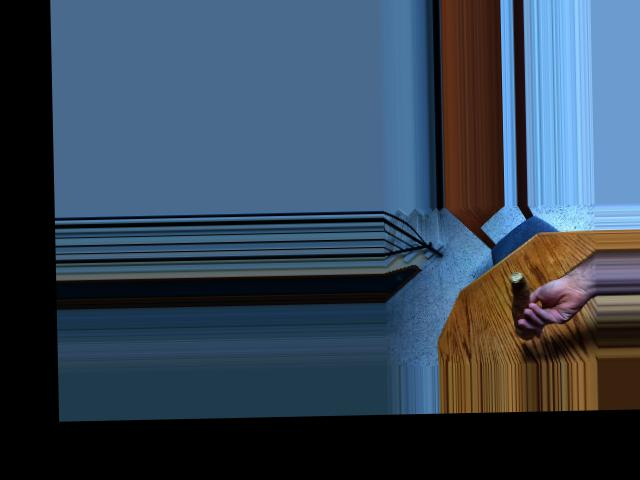sweet_potato: (507, 270, 539, 339)
